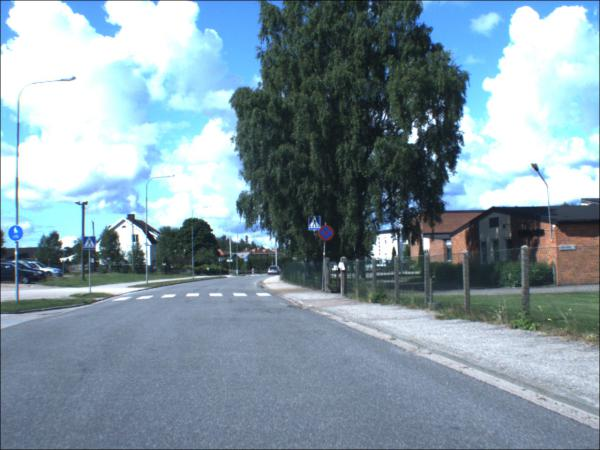NO_STOPPING_NO_STANDING: (320, 226, 335, 242)
PEDESTRIAN_CROSSING: (310, 216, 323, 232), (84, 238, 98, 252)
